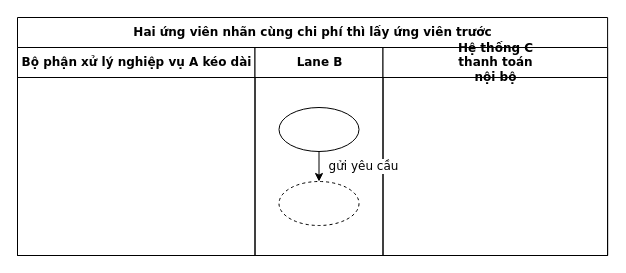
This 626x273 diagram has some shape labels left out. Each missing label, with the centre of its shape:
B-1 x: the point at 318,129
B-2 x: the point at 318,203
